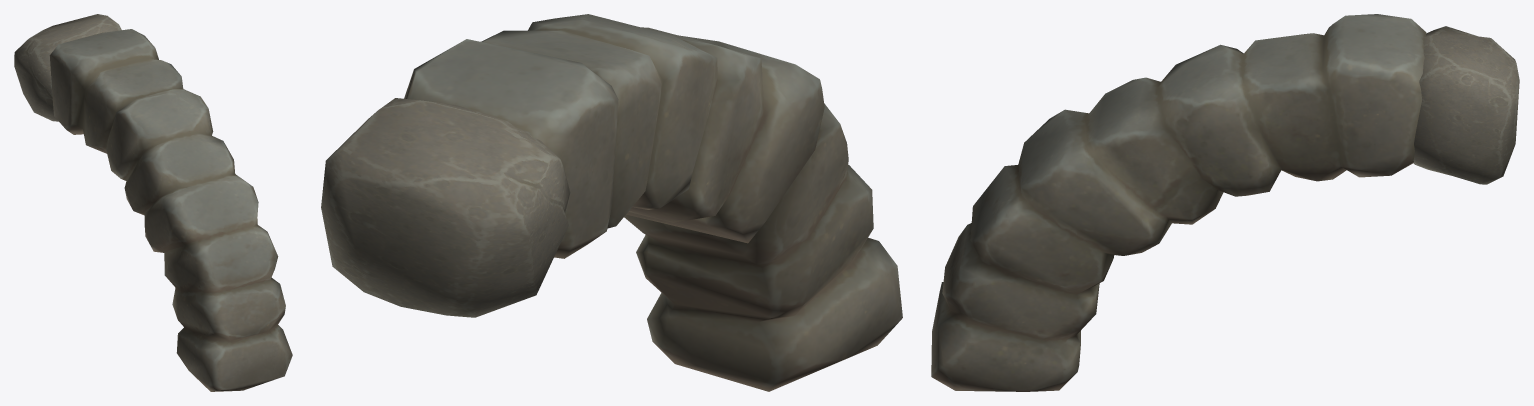
The model's file is SM_FW01_Ruins_Int_Ceiling_4x4_Arch_02.fbx.
3 renders of one model, left to right at view 1: azimuth 30°, elevation 25°; view 2: azimuth 150°, elevation 25°; view 3: azimuth 270°, elevation 25°, orthographic. The views are drawn at different scales.
Visible parts, largest first — view 1: SM_FW01_Ruins_Int_Ceiling_4x4_Arch_02_LOD0; view 2: SM_FW01_Ruins_Int_Ceiling_4x4_Arch_02_LOD0; view 3: SM_FW01_Ruins_Int_Ceiling_4x4_Arch_02_LOD0.
Part boxes in pixels (x1,y1,x2,y2): SM_FW01_Ruins_Int_Ceiling_4x4_Arch_02_LOD0: [14, 14, 292, 391]; SM_FW01_Ruins_Int_Ceiling_4x4_Arch_02_LOD0: [321, 14, 902, 391]; SM_FW01_Ruins_Int_Ceiling_4x4_Arch_02_LOD0: [931, 14, 1519, 391].
Size of what is drawn, in the model's own units: 0.7506 by 1.66 by 2.64.
